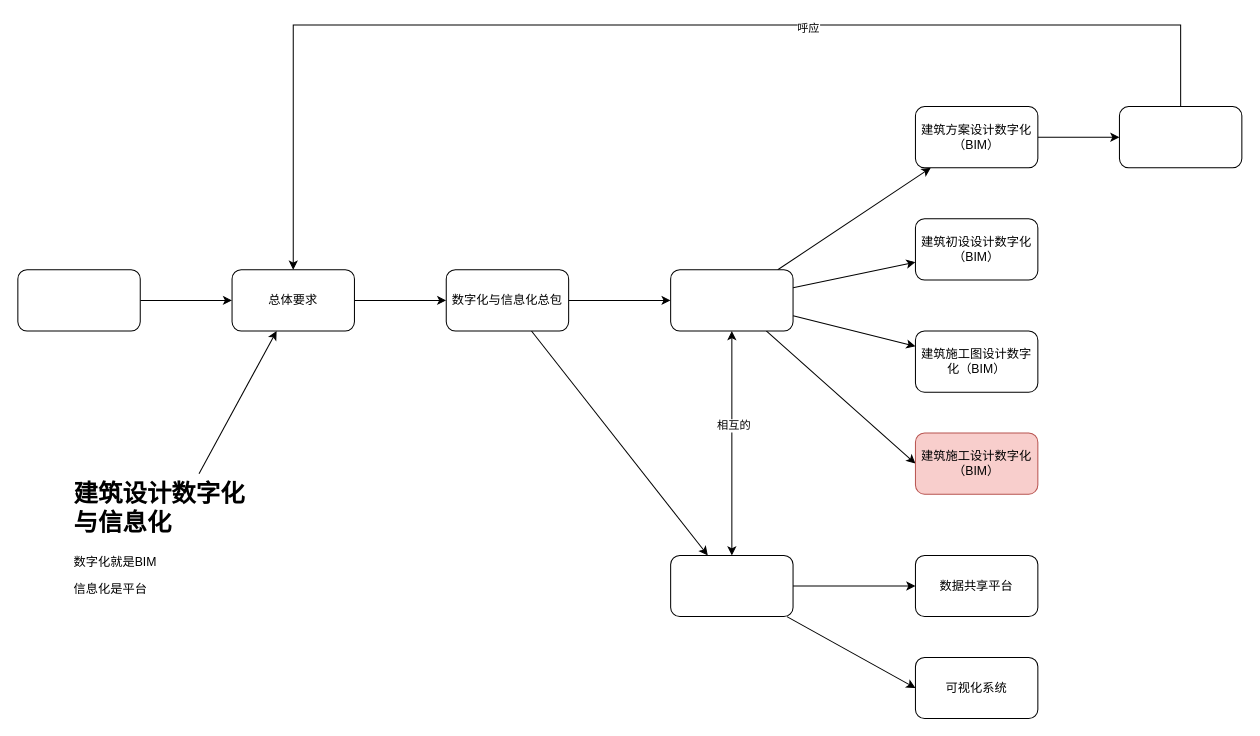
This 1260x736 diagram has some shape labels left out. The box of each missing label's shape, as (x1, y1, x2, y2) in pixels:
1、内容 2、成果: (1118, 106, 1242, 168)
信息化: (670, 554, 793, 617)
建筑设计数字化与信息化: (17, 269, 140, 331)
数字化: (670, 269, 793, 331)
